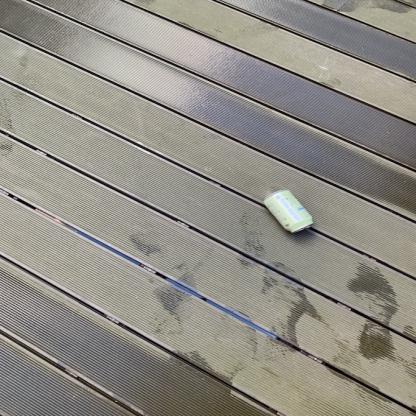trash: (258, 191, 316, 237)
